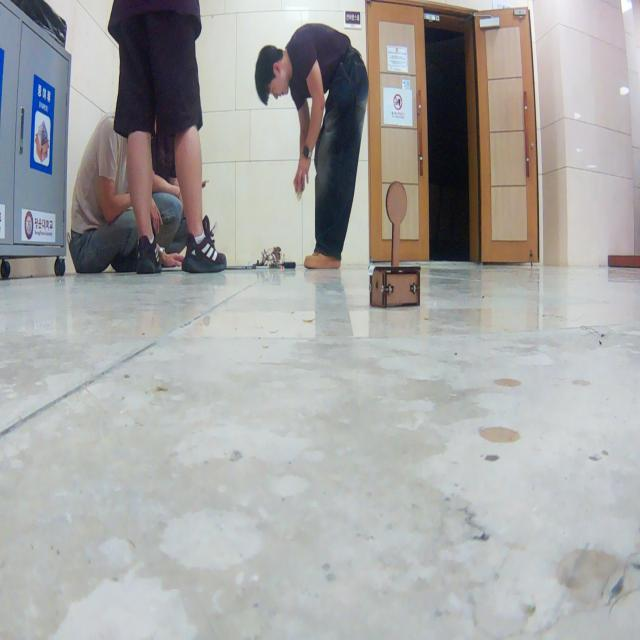target: (368, 180, 420, 308)
